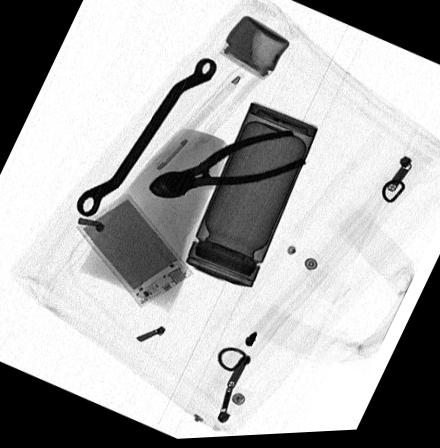Pliers: (147, 131, 307, 200)
Powerbank: (75, 192, 193, 307)
Wrench: (76, 59, 218, 216)
